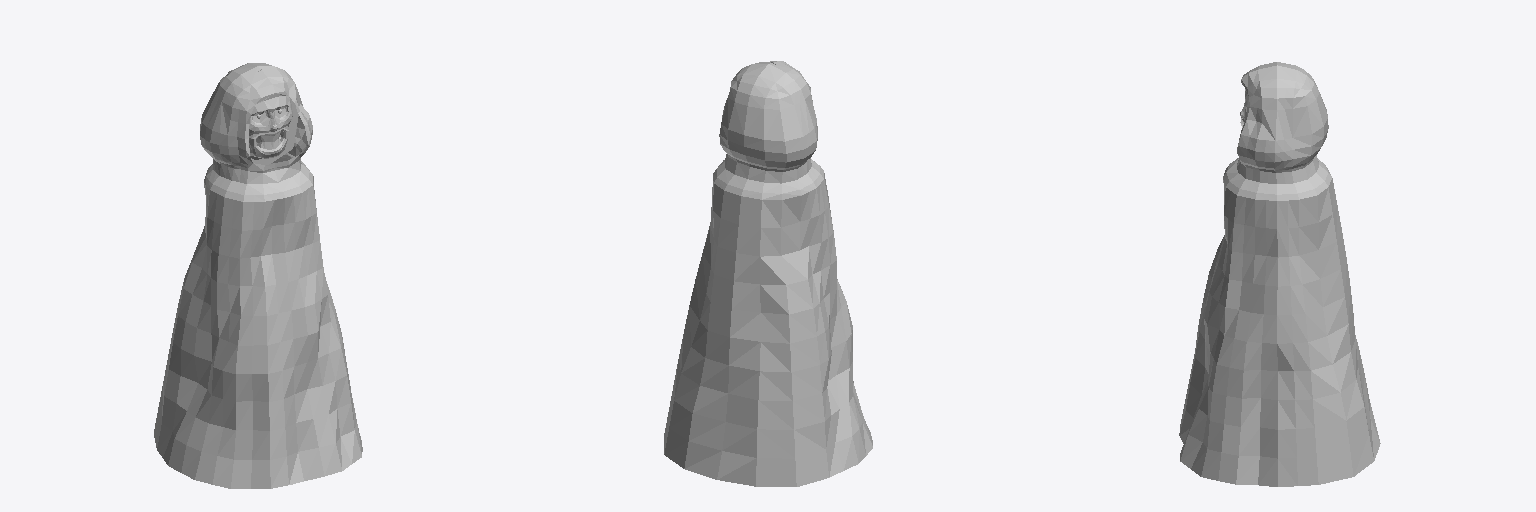
Rendered from ghost17.obj.
The picture shows the model from 3 angles: view 1: azimuth 30°, elevation 25°; view 2: azimuth 150°, elevation 25°; view 3: azimuth 270°, elevation 25°; orthographic projection.
Visible parts, largest first — view 1: Plane.004, Head_Face.001_0.003; view 2: Plane.004; view 3: Plane.004.
Part boxes in pixels (x1,y1,x2,y2): Plane.004: (154,63,362,488); Head_Face.001_0.003: (249,96,292,159); Plane.004: (664,61,872,486); Plane.004: (1179,62,1380,486).
Bounding box in the file's own units: 2.71 × 5.53 × 2.64.